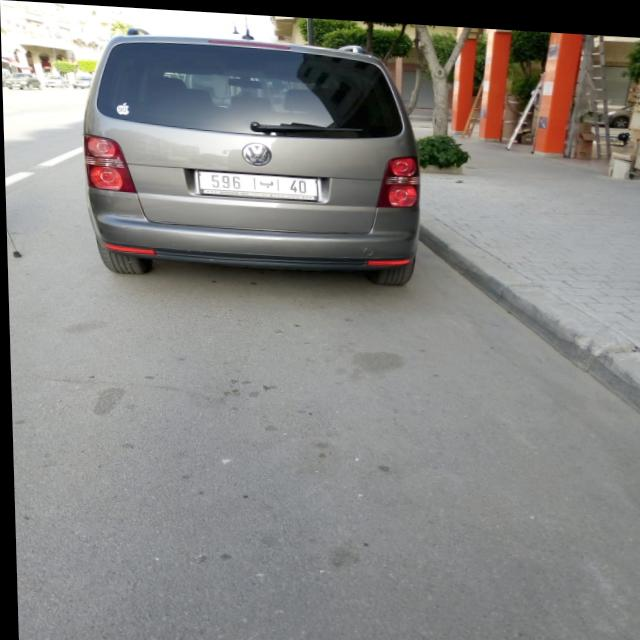License-Plate: (197, 170, 317, 196)
